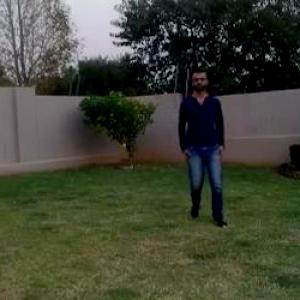follow: (183, 69, 224, 212)
